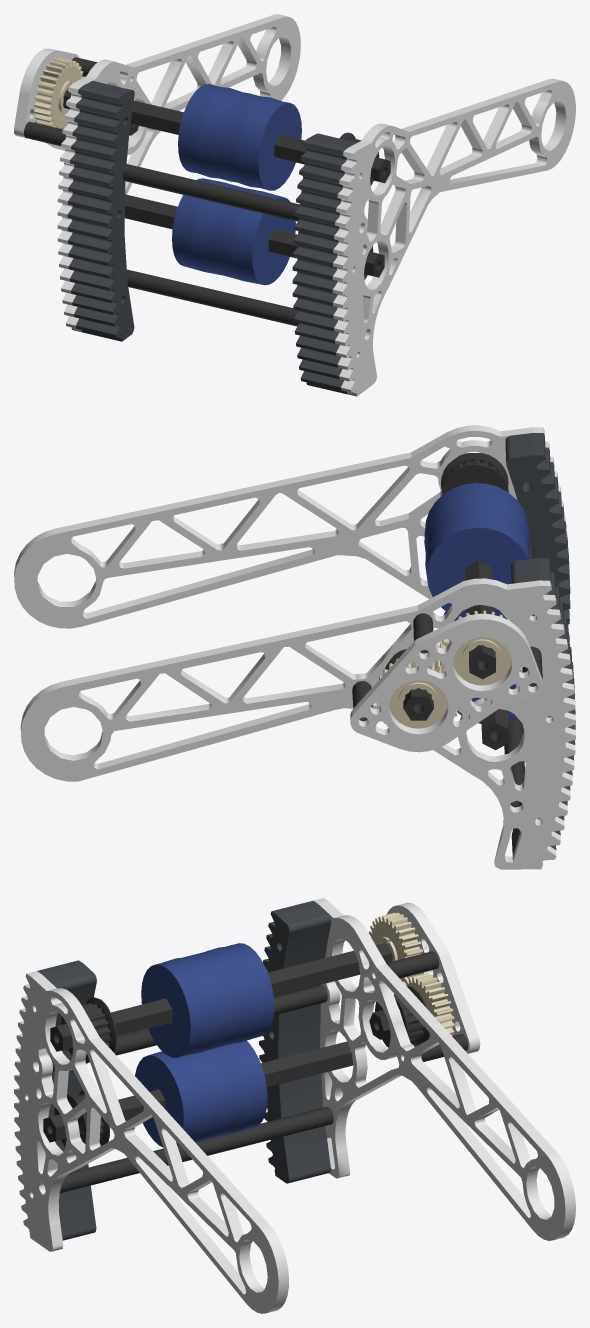
File: 341-hood.glb
The picture shows the model from 3 angles, top to bottom: view 1: azimuth 30°, elevation 25°; view 2: azimuth 150°, elevation 25°; view 3: azimuth 270°, elevation 25°; orthographic projection. The views are drawn at different scales.
Parts seen in each view (by area): view 1: 10DP Hood Plate, 10 DP 3DP Rack, 2" Stealth Wheel (50A, 1/2" Hex Bore), 0.196" ID x 0.375" OD Aluminum Round Tube (1.198" L), 30t Aluminum Spur Gear (20 DP, 1/2" Hex Bore), Belt Direction Reverser Plate; view 2: 10DP Hood Plate, Belt Direction Reverser Plate, 2" Stealth Wheel (50A, 1/2" Hex Bore), 10 DP 3DP Rack, 0.196" ID x 0.375" OD Aluminum Round Tube (1.198" L), 30t Aluminum Spur Gear (20 DP, 1/2" Hex Bore); view 3: 10DP Hood Plate, 2" Stealth Wheel (50A, 1/2" Hex Bore), 0.196" ID x 0.375" OD Aluminum Round Tube (1.198" L), 10 DP 3DP Rack, Belt Direction Reverser Plate, 30t Aluminum Spur Gear (20 DP, 1/2" Hex Bore).
Boxes of the visible parts, x1=… form: 10DP Hood Plate: x1=57, y1=14, x2=575, y2=396; 10 DP 3DP Rack: x1=67, y1=81, x2=356, y2=394; 2" Stealth Wheel (50A, 1/2" Hex Bore): x1=172, y1=84, x2=301, y2=285; 0.196" ID x 0.375" OD Aluminum Round Tube (1.198" L): x1=24, y1=57, x2=390, y2=326; 30t Aluminum Spur Gear (20 DP, 1/2" Hex Bore): x1=34, y1=57, x2=107, y2=129; Belt Direction Reverser Plate: x1=14, y1=48, x2=79, y2=150; 10DP Hood Plate: x1=14, y1=425, x2=575, y2=869; Belt Direction Reverser Plate: x1=350, y1=613, x2=542, y2=752; 2" Stealth Wheel (50A, 1/2" Hex Bore): x1=424, y1=483, x2=530, y2=723; 10 DP 3DP Rack: x1=505, y1=433, x2=575, y2=855; 0.196" ID x 0.375" OD Aluminum Round Tube (1.198" L): x1=352, y1=452, x2=542, y2=807; 30t Aluminum Spur Gear (20 DP, 1/2" Hex Bore): x1=376, y1=610, x2=521, y2=728; 10DP Hood Plate: x1=14, y1=898, x2=575, y2=1313; 2" Stealth Wheel (50A, 1/2" Hex Bore): x1=135, y1=943, x2=274, y2=1147; 0.196" ID x 0.375" OD Aluminum Round Tube (1.198" L): x1=43, y1=942, x2=467, y2=1193; 10 DP 3DP Rack: x1=37, y1=901, x2=331, y2=1240; Belt Direction Reverser Plate: x1=386, y1=902, x2=480, y2=1053; 30t Aluminum Spur Gear (20 DP, 1/2" Hex Bore): x1=369, y1=912, x2=454, y2=1045.
Size of the model in its own units: 0.3261 by 0.1515 by 0.292.
